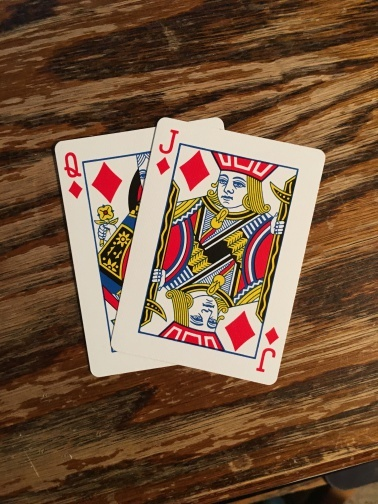jack: (135, 123, 306, 373)
queen: (59, 145, 153, 366)
